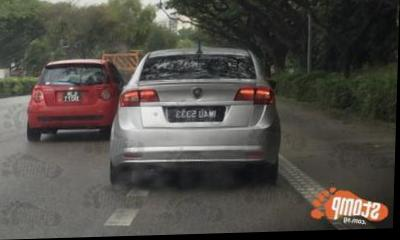License_Plate: (165, 104, 228, 123)
